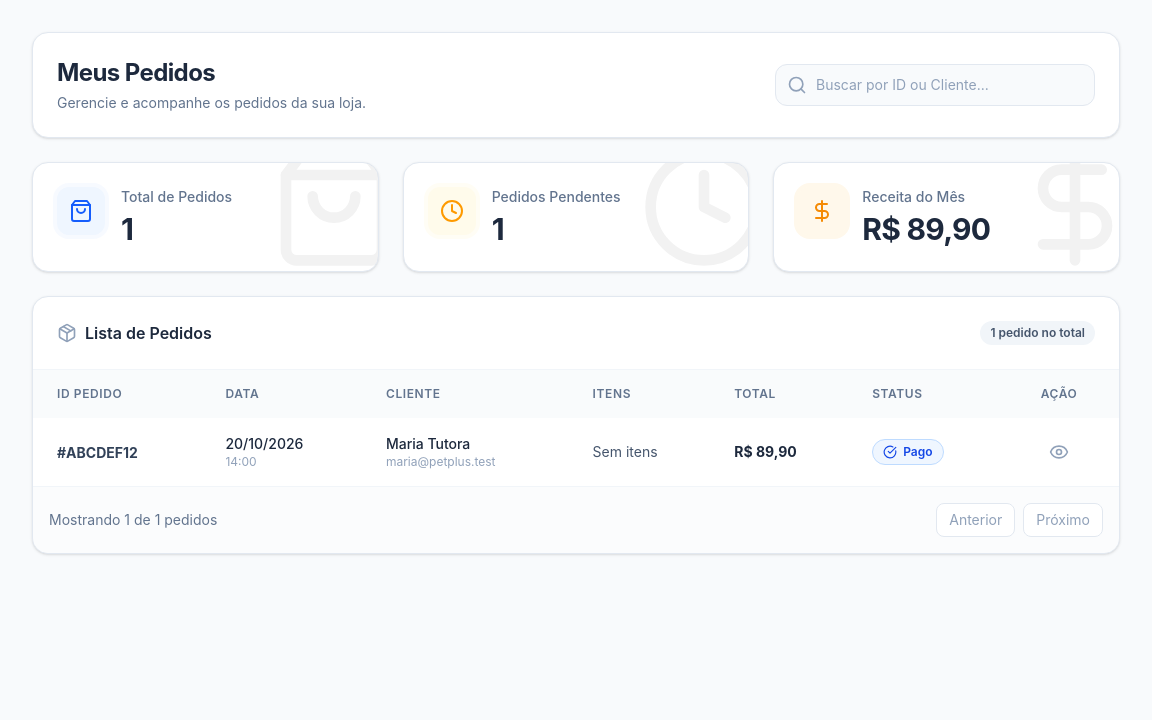
it: pedido antigo, sem endereço gravado, avisa em vez de quebrar
Click the button titled "Ver Detalhes" at (1059, 452), box [1043,436,1075,468]
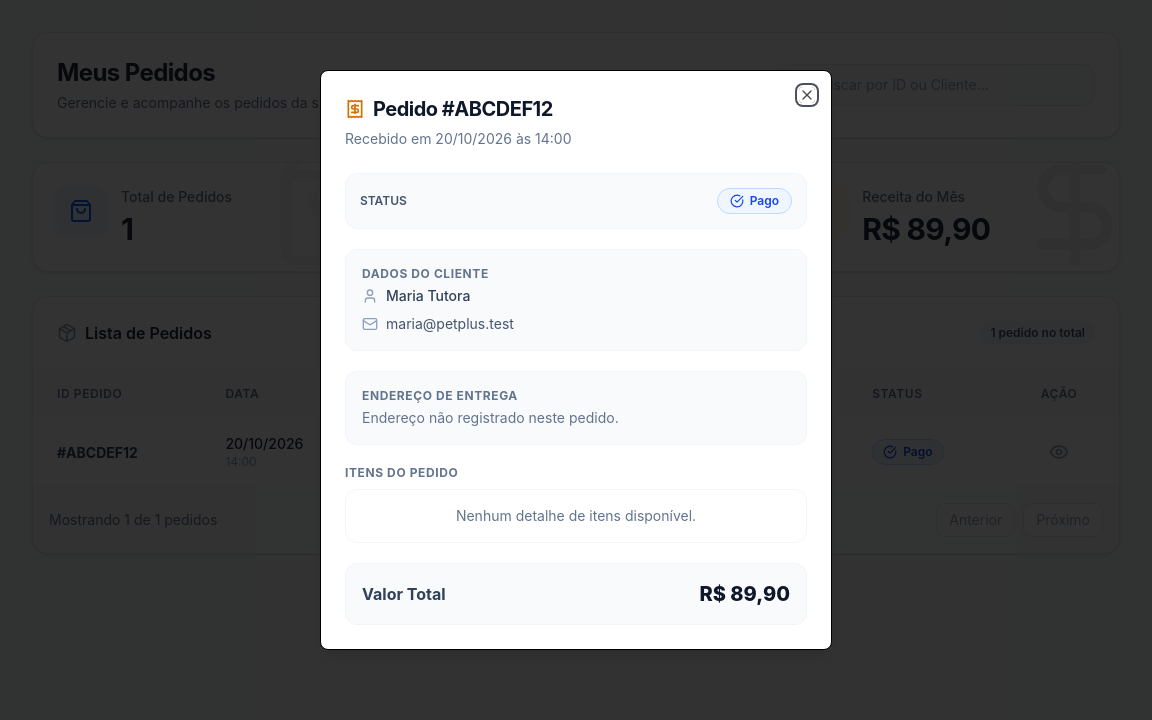
Result: the text "Endereço não registrado neste pedido." is shown at [362,409,619,426]
